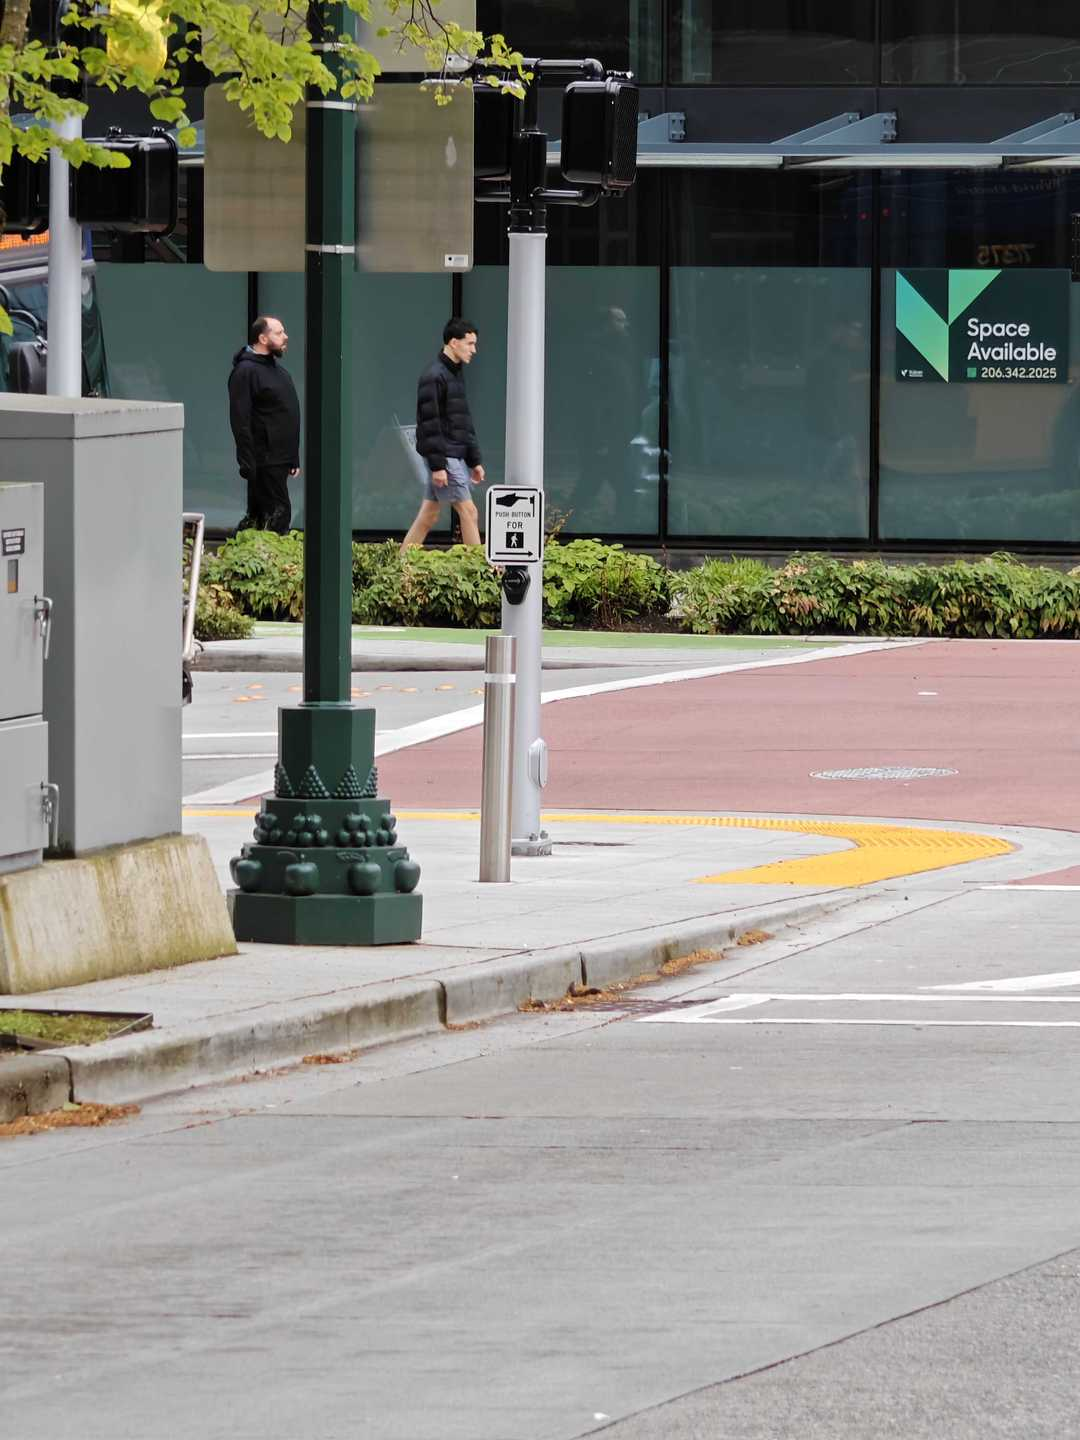ped_button: (486, 484, 545, 603)
